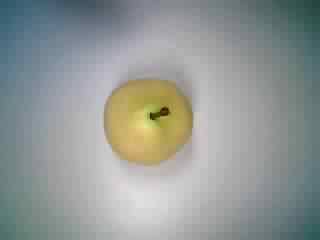pear: (95, 74, 197, 172)
